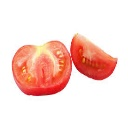tomato: (11, 41, 73, 94), (71, 29, 118, 80)
